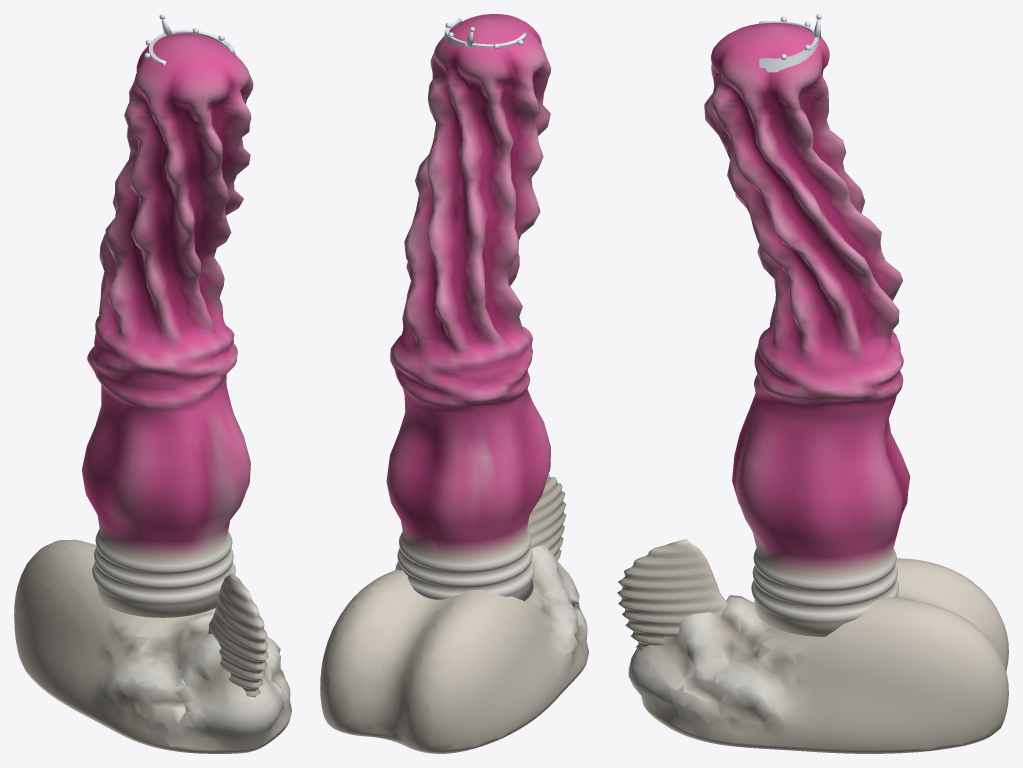
The model's file is queen.glb.
3 renders of one model, left to right at view 1: azimuth 30°, elevation 25°; view 2: azimuth 150°, elevation 25°; view 3: azimuth 270°, elevation 25°, orthographic. The views are drawn at different scales.
Visible parts, largest first — view 1: queen, tiara; view 2: queen, tiara; view 3: queen, tiara.
Part boxes in pixels (left/top/right/bottom): queen: left=14, top=33, right=291, bottom=753; tiara: left=144, top=14, right=235, bottom=65; queen: left=320, top=14, right=588, bottom=753; tiara: left=444, top=18, right=527, bottom=49; queen: left=617, top=22, right=1008, bottom=753; tiara: left=759, top=14, right=821, bottom=72.
Size of the model in its own units: 0.3419 by 1.17 by 0.6006.
